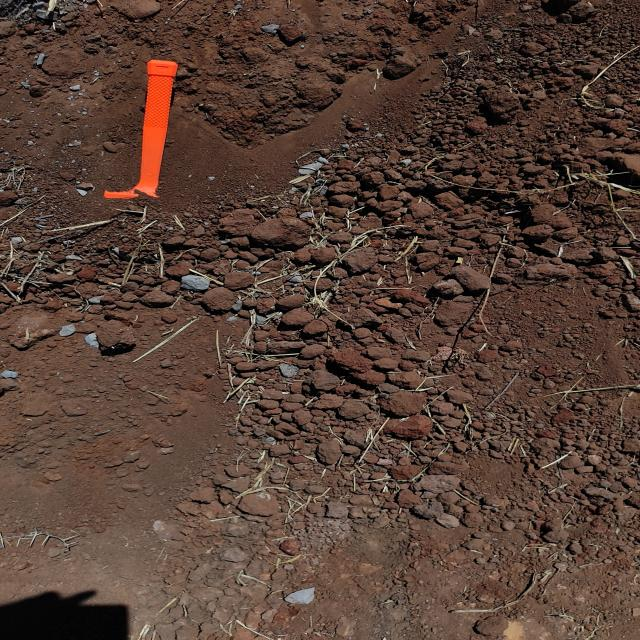Orange_hammer: (102, 59, 178, 200)
rock: (368, 384, 436, 430)
